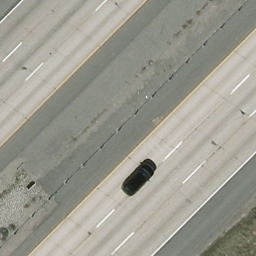car: (122, 158, 159, 198)
